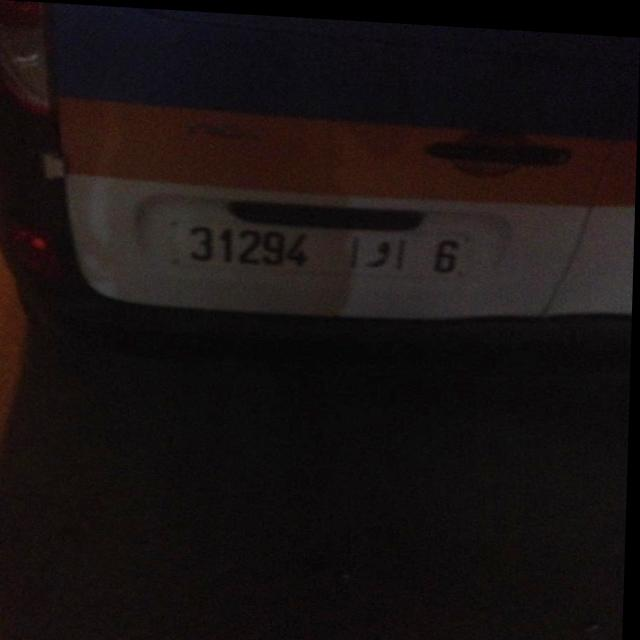License-Plate: (170, 219, 476, 271)
